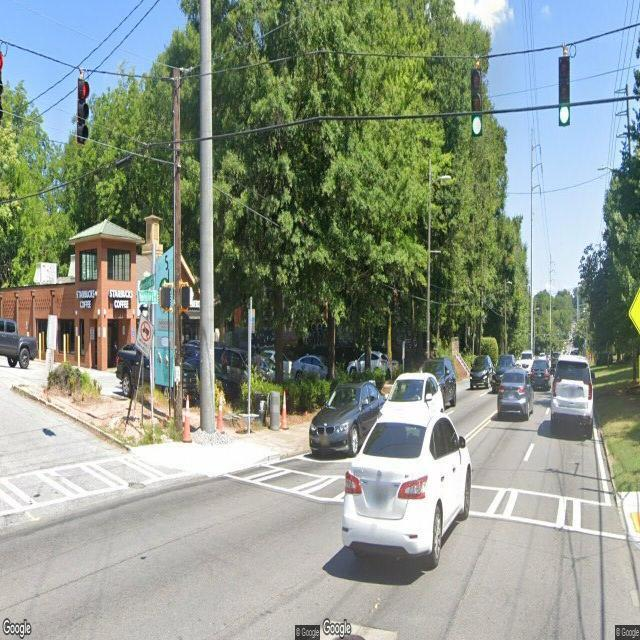seating: (240, 412, 260, 424)
trash_can: (254, 389, 270, 429), (270, 390, 280, 431)
